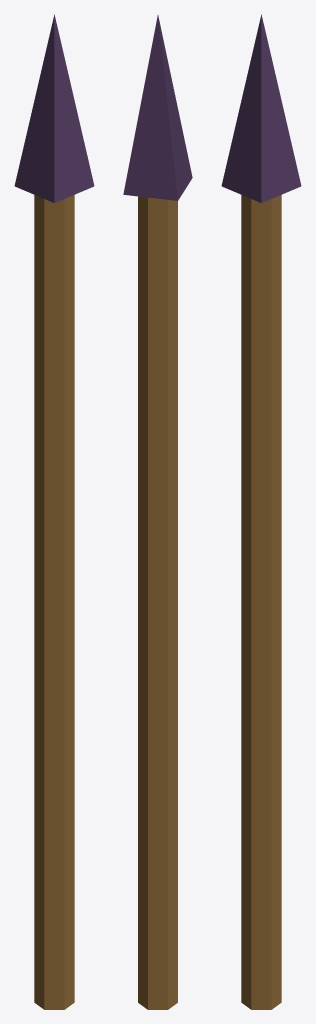
Rendered from obsidian_spear.dae.
3 renders of one model, left to right at view 1: azimuth 90°, elevation 25°; view 2: azimuth 210°, elevation 25°; view 3: azimuth 270°, elevation 25°, orthographic.
Visible parts, largest first — view 1: Cylinder, Cone; view 2: Cylinder, Cone; view 3: Cylinder, Cone.
Part boxes in pixels (x1,y1,x2,y2): Cylinder: (34, 195, 74, 1009); Cone: (14, 14, 94, 202); Cylinder: (138, 196, 177, 1009); Cone: (123, 15, 192, 200); Cylinder: (241, 195, 281, 1009); Cone: (221, 14, 301, 202).
Bounding box in the file's own units: 16 × 16 × 218.
